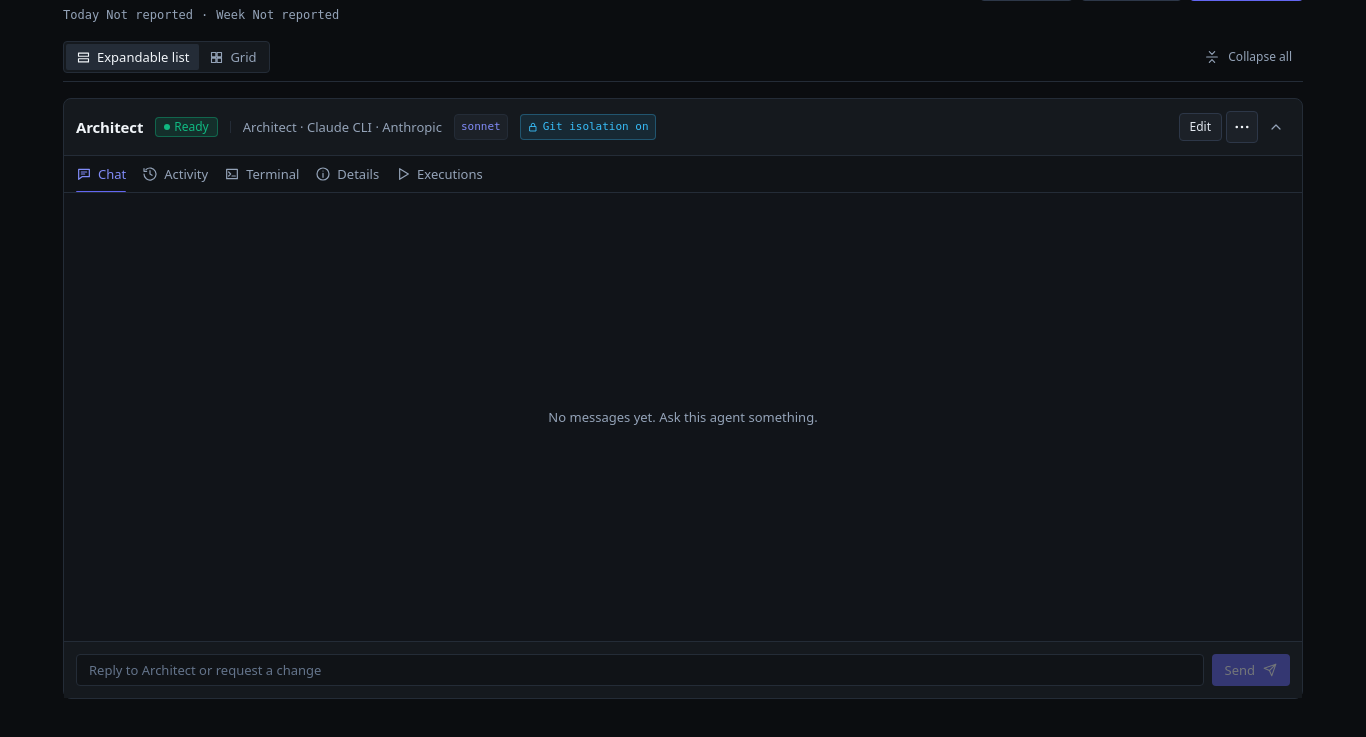
it: Task context preview › shows, while the task is typed, how big the context is, what is in it and what is not
Type "Add password recovery endpoint" into the text box named "Message Architect".
click(640, 670); type("Add password recovery endpoint")  # box [76,654,1204,686]
(page scrolled)
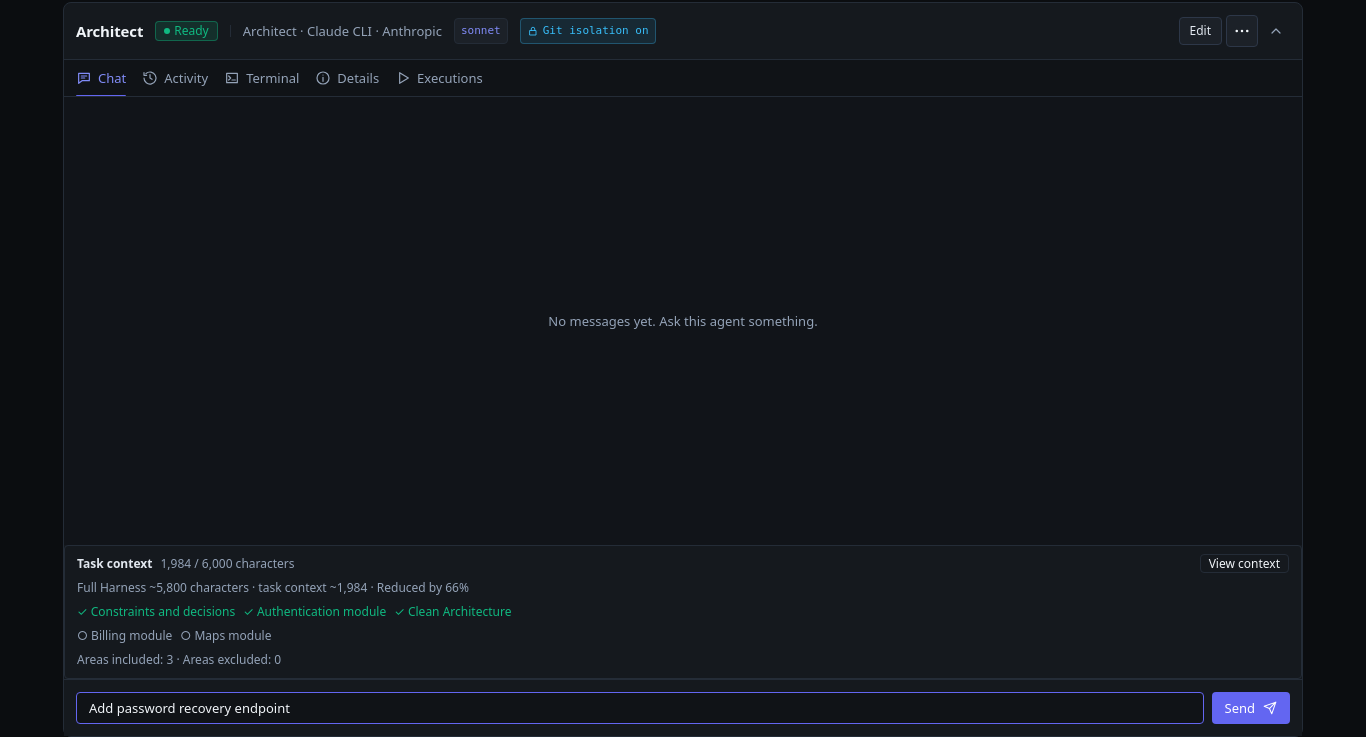
Expected: the text "1,984 / 6,000 characters" is shown, [160,554,295,574]
Expected: the text "Full Harness ~5,800 characters" is shown, [77,579,367,596]
Expected: the text "Reduced by 66%" is shown, [367,579,469,596]
